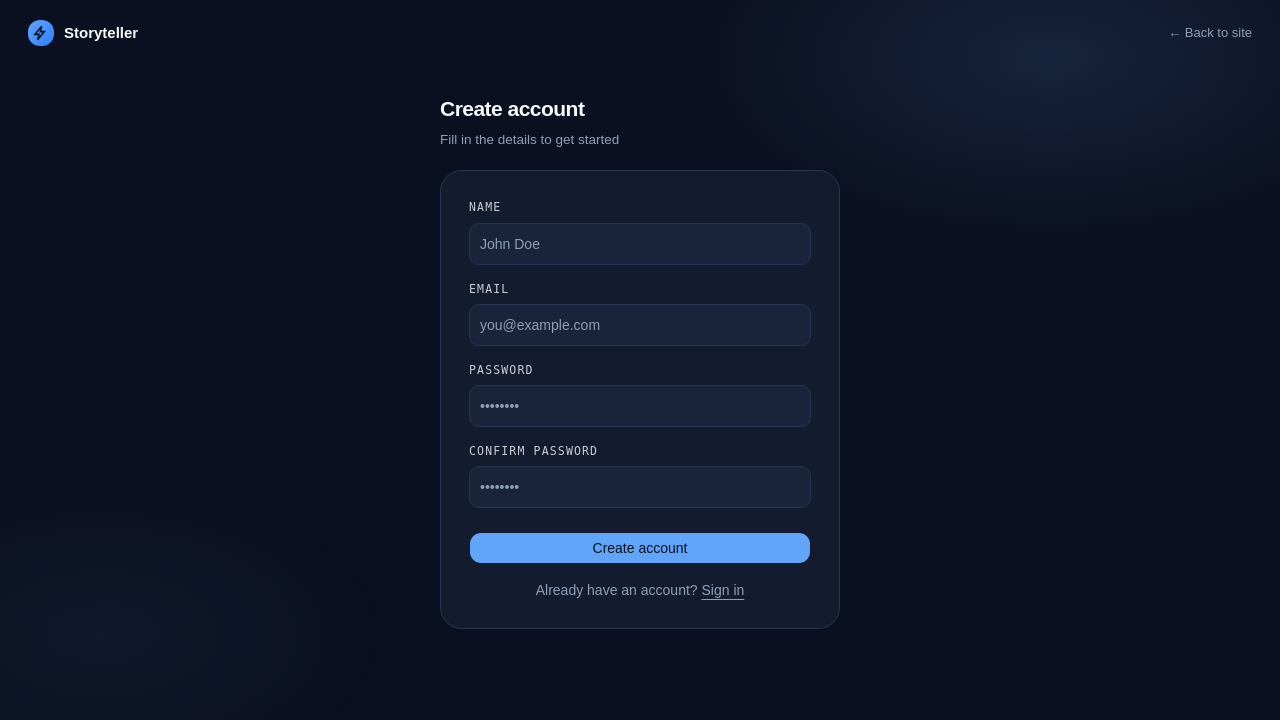
Test case: SignupPage › shows unexpected error on exception
Type "Test" into the field labelled "Name" at (640, 244), box [469,223,811,265]
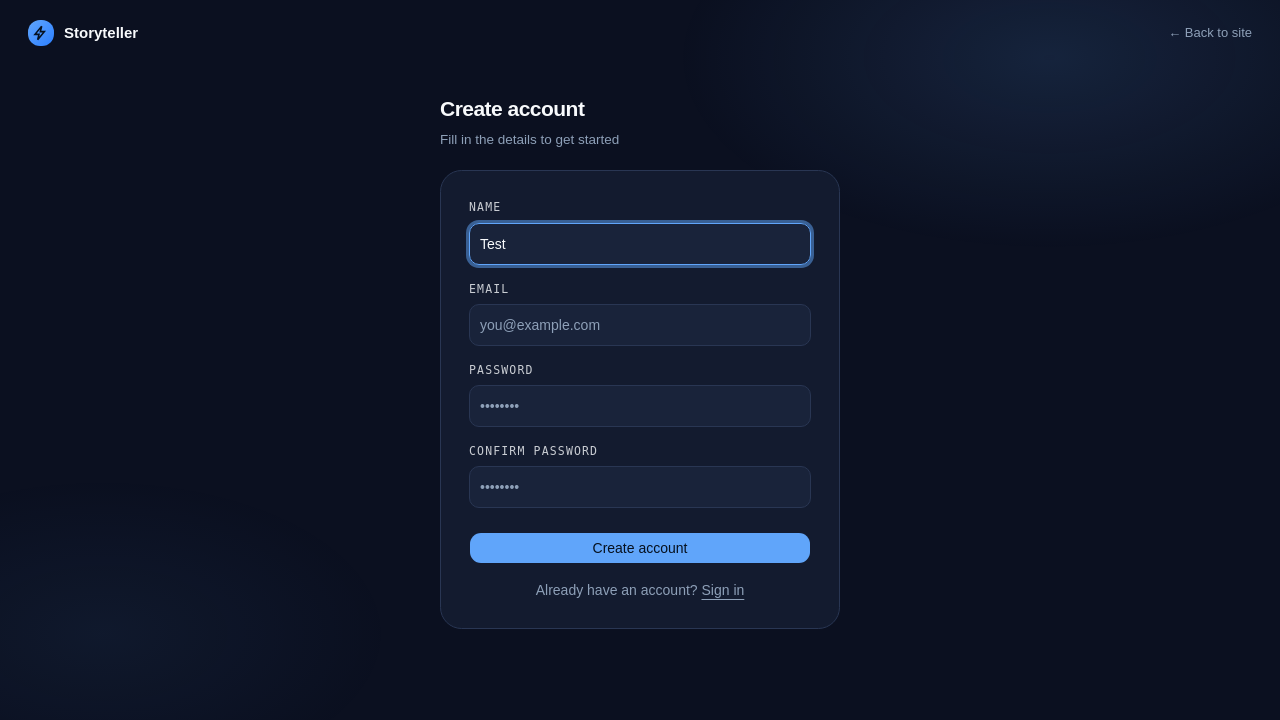
Type "a@b.com" into the field labelled "Email" at (640, 325), box [469,304,811,346]
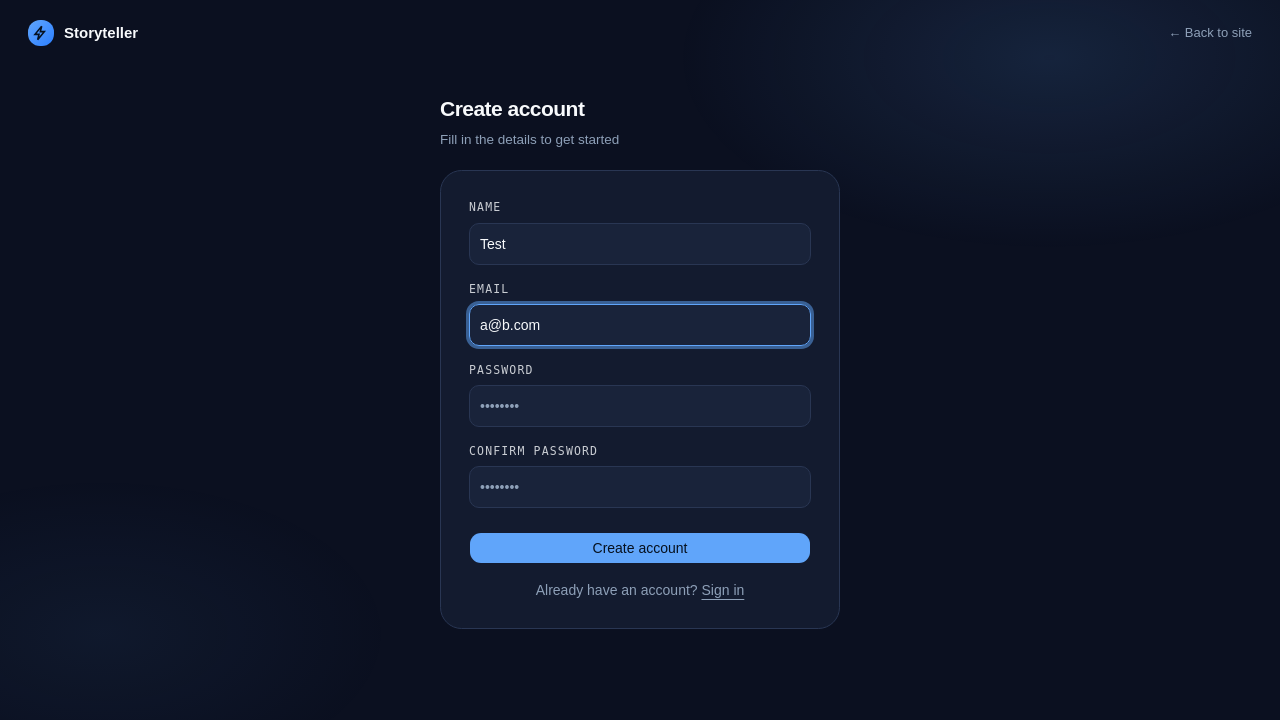
Type "Testpass1" into the password field labelled "Password" at (640, 406), box [469,385,811,427]
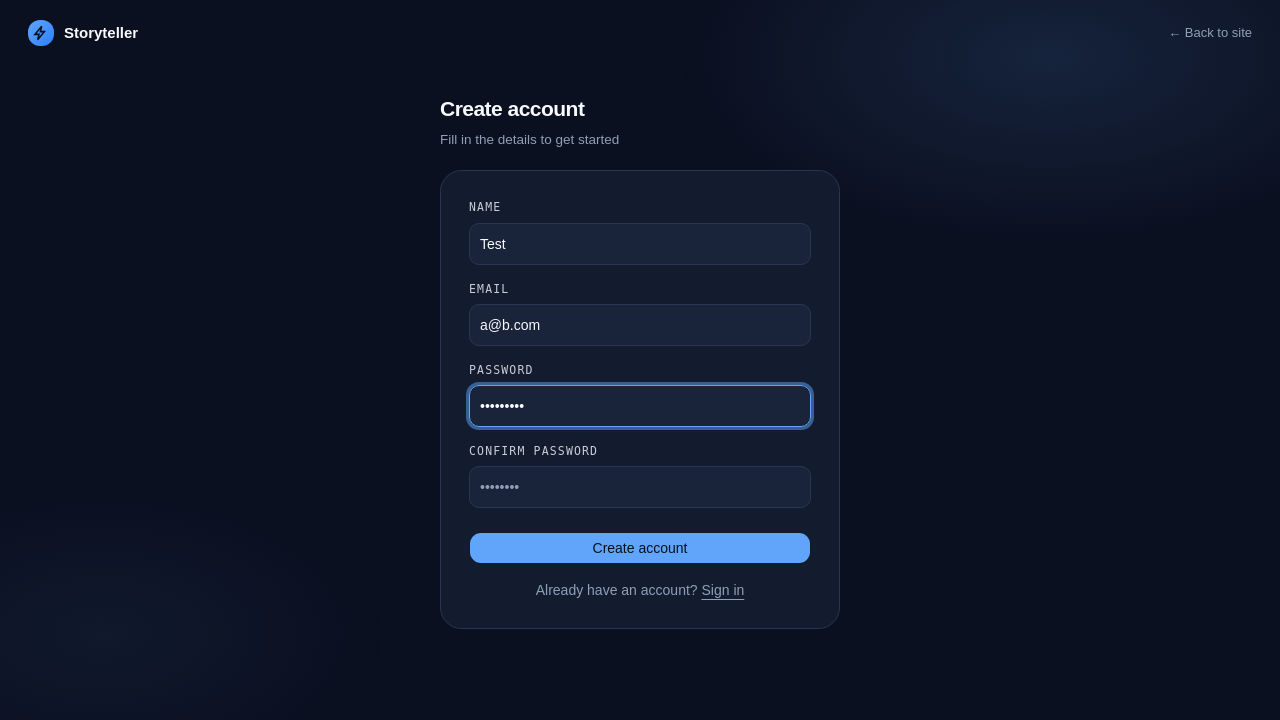
Type "Testpass1" into the password field labelled "Confirm password" at (640, 487), box [469,466,811,508]
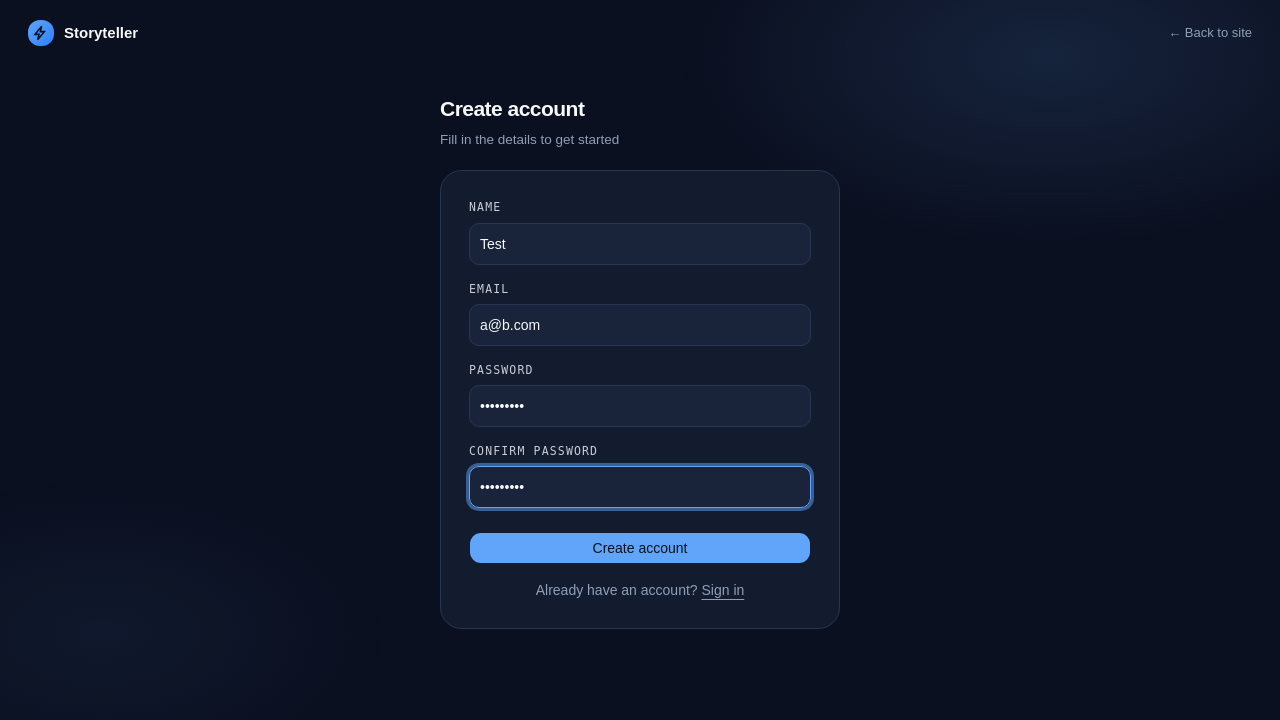
Click the button "Create account" at (640, 548), box [469,532,811,564]
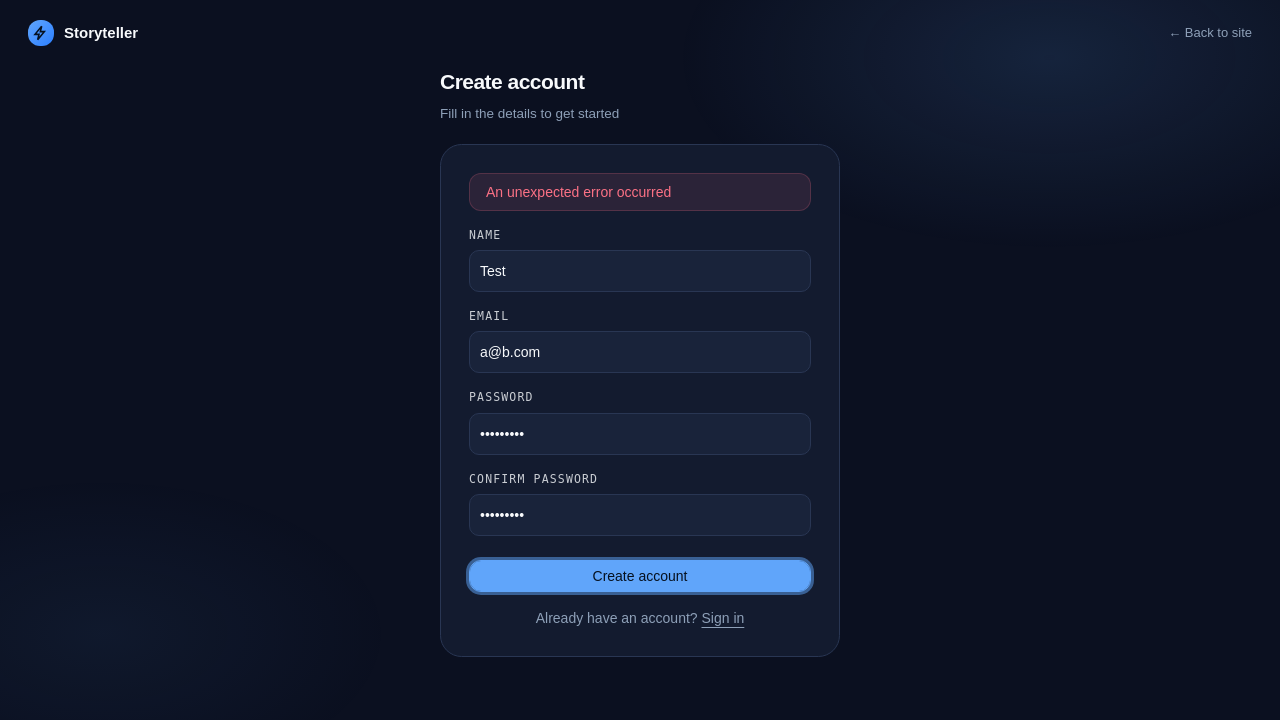
Expected: the text "An unexpected error occurred" is shown, [469,173,811,211]
